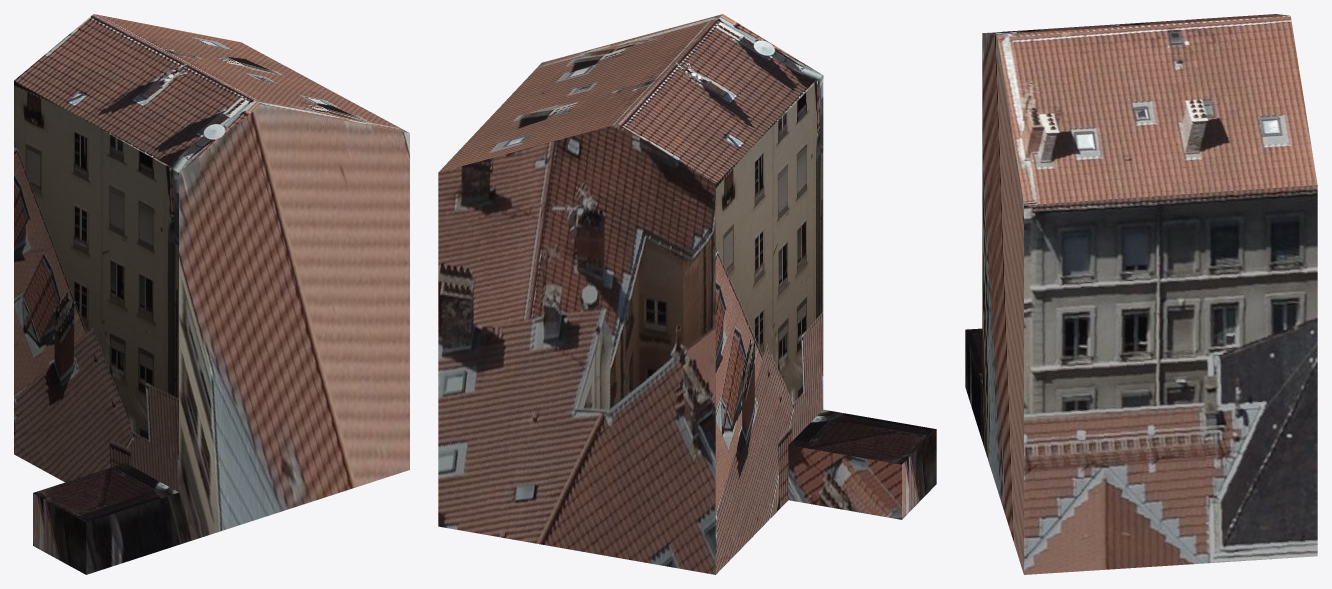
3 views of the same model, side by side, from view 1: azimuth 30°, elevation 25°; view 2: azimuth 150°, elevation 25°; view 3: azimuth 270°, elevation 25° (orthographic). The views are drawn at different scales.
Parts seen in each view (by area): view 1: Z_UP; view 2: Z_UP; view 3: Z_UP.
Part boxes in pixels (x1,y1,x2,y2): Z_UP: [14, 14, 409, 574]; Z_UP: [438, 14, 936, 574]; Z_UP: [965, 14, 1317, 574].
Size of the model in its own units: 18.24 by 20.04 by 14.06.
2 materials, 1 textured.
